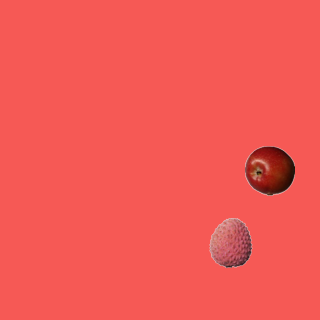Apple Braeburn: (244, 145, 294, 195)
Lychee: (205, 217, 255, 267)
